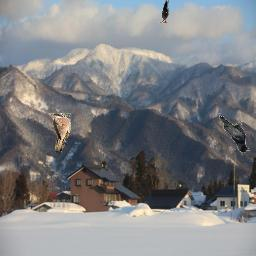Crow: (219, 113, 251, 153)
Cuckoo: (49, 113, 71, 153)
Woodpecker: (159, 0, 169, 23)
